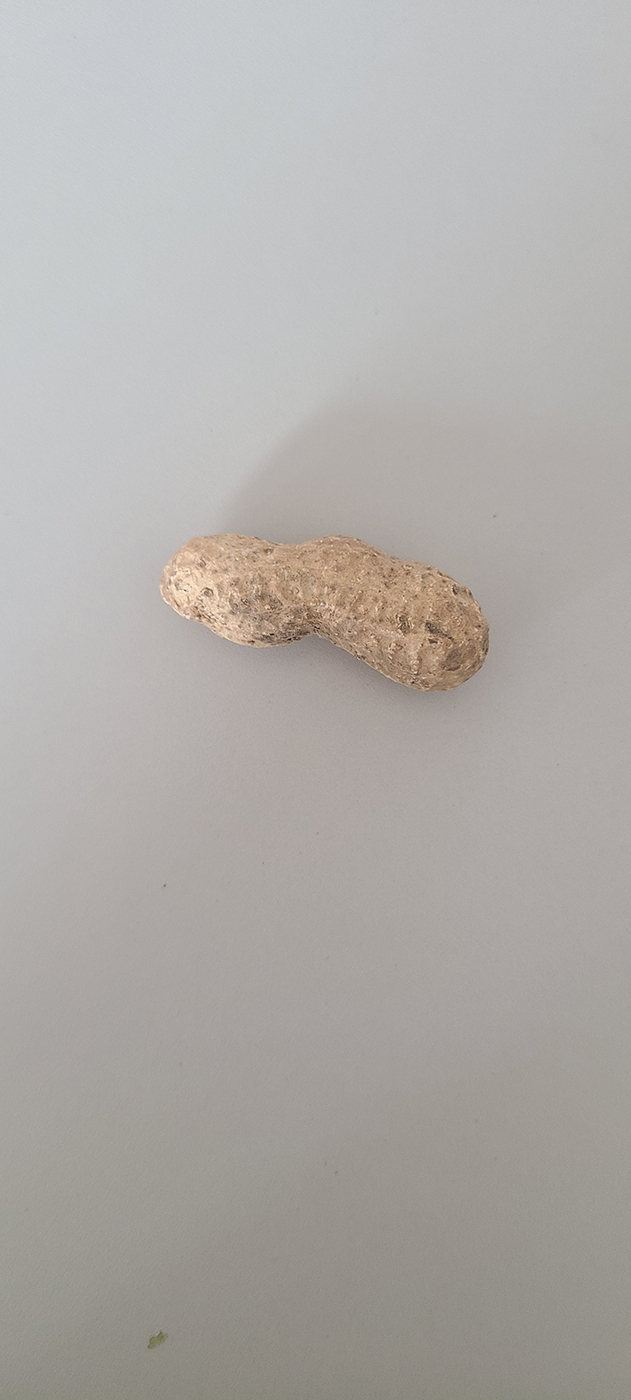h: (159, 530, 490, 695)
